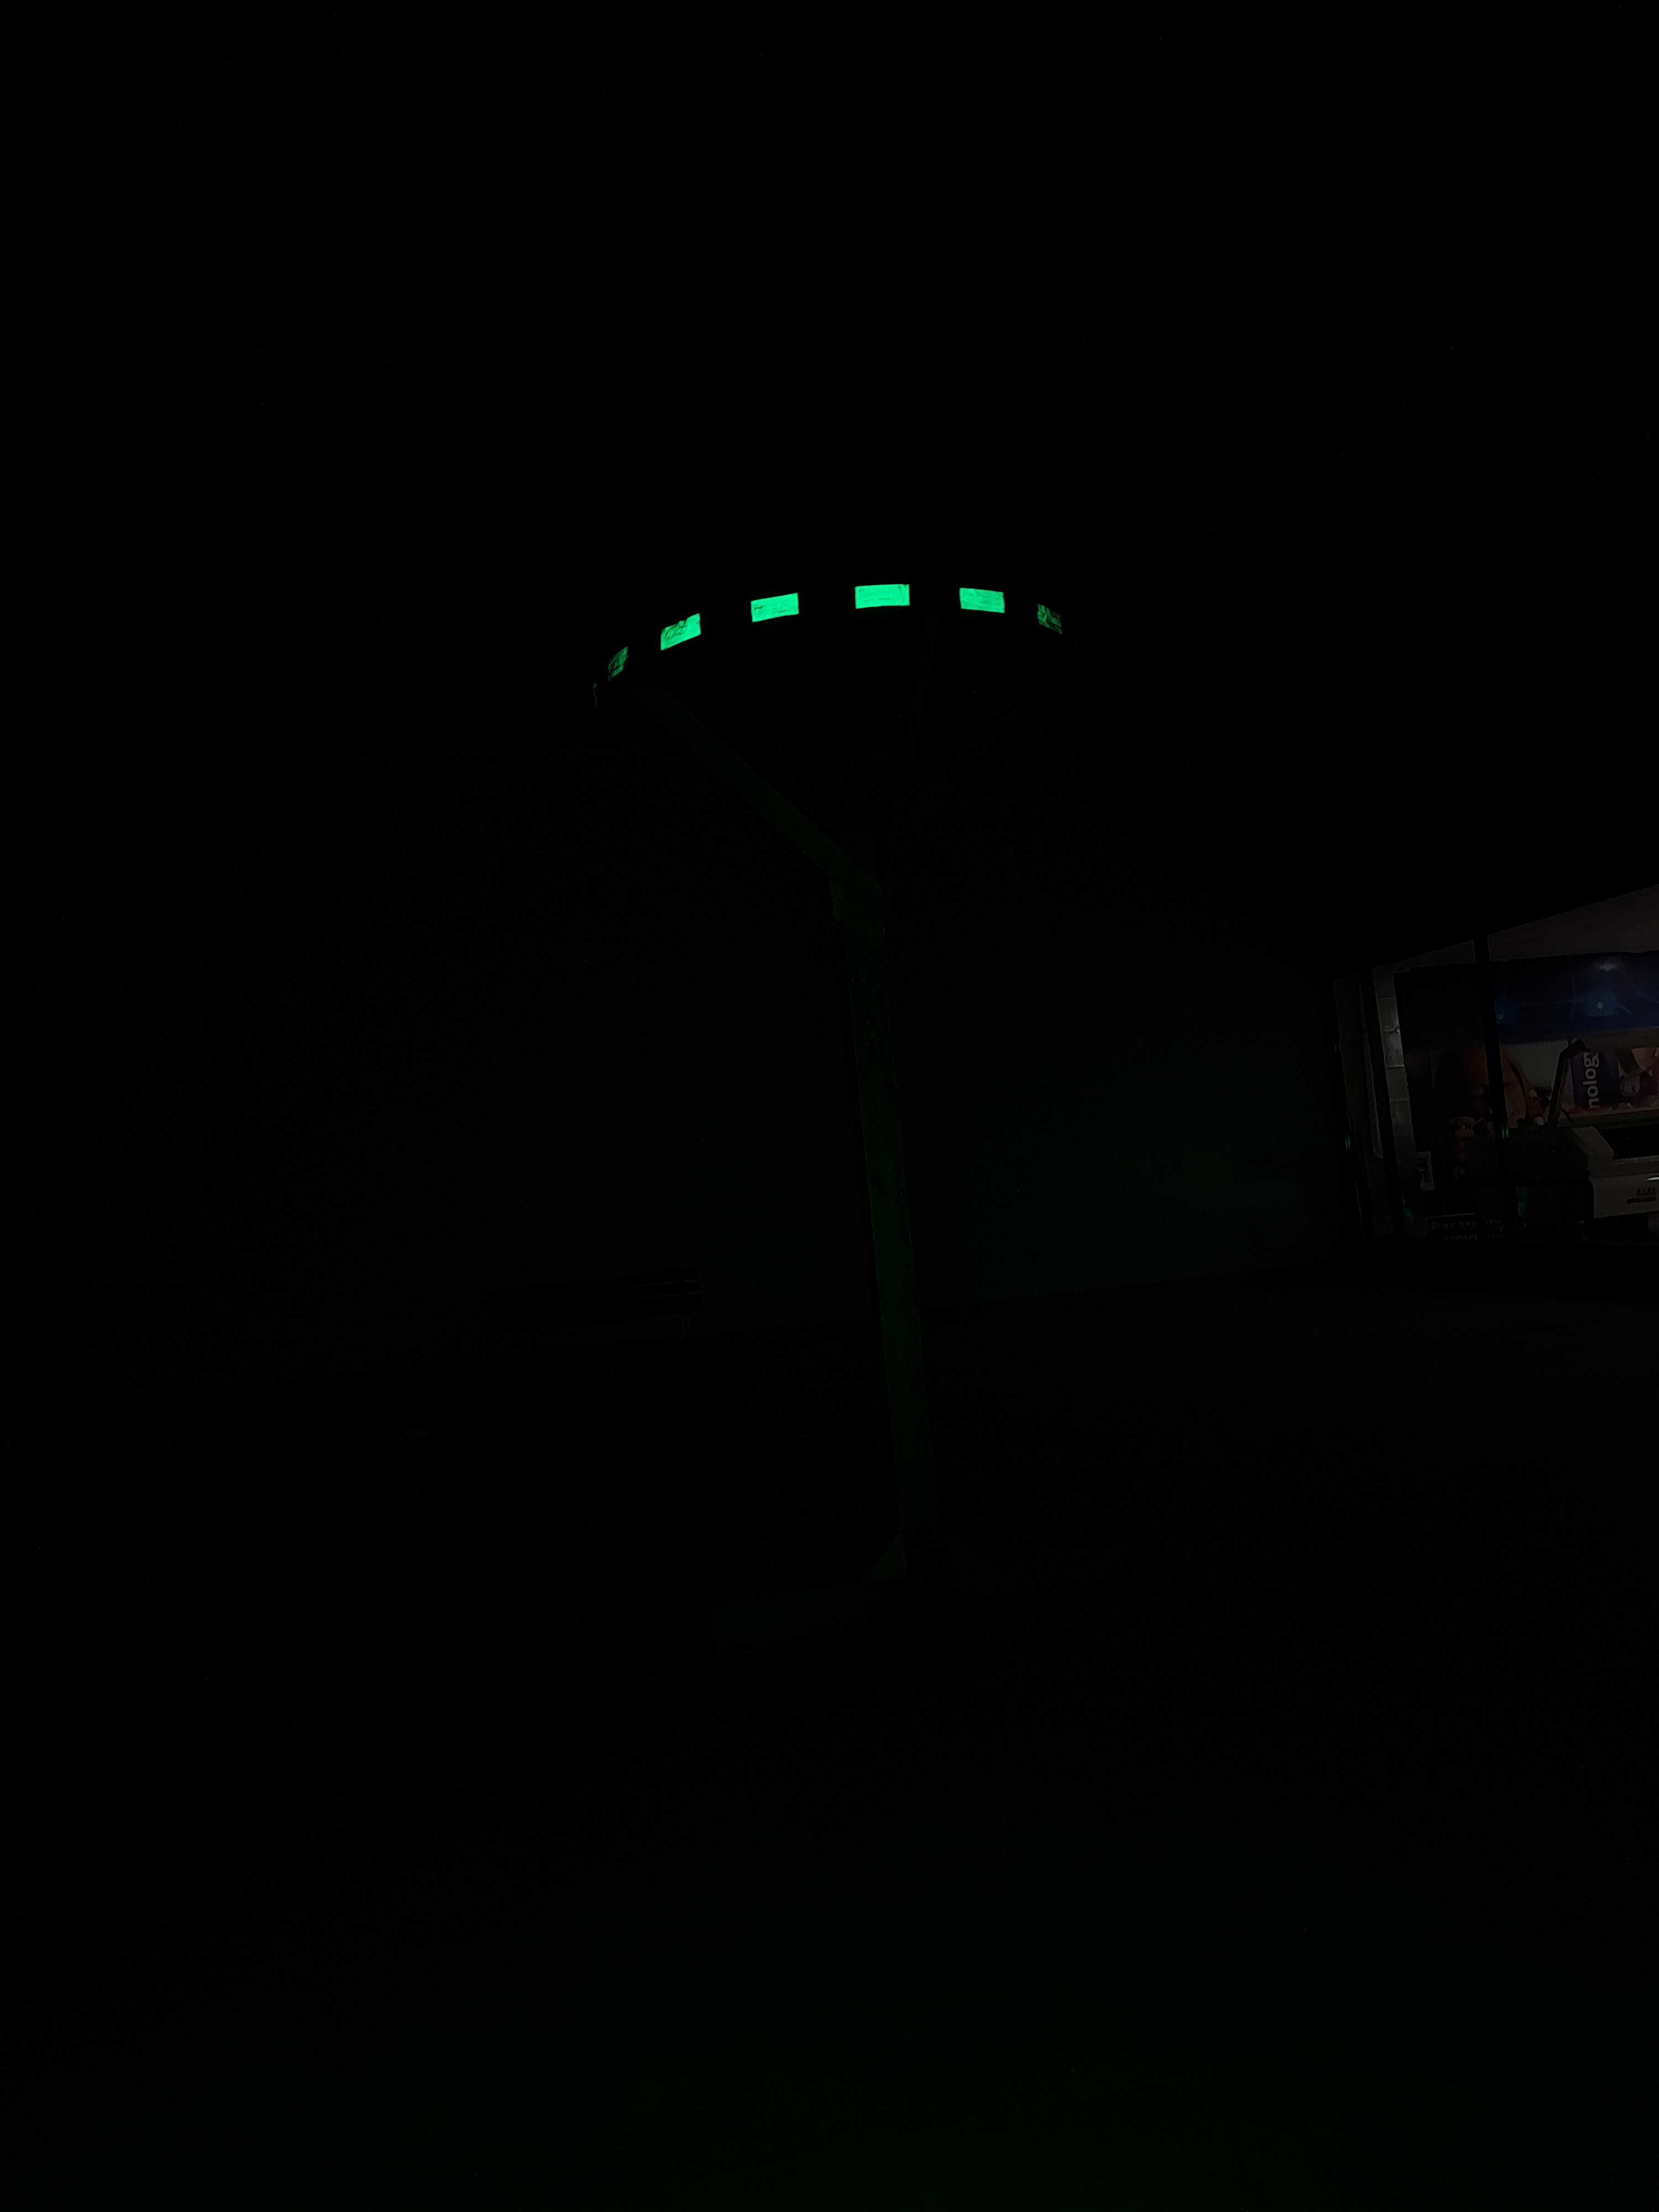hoop: (561, 570, 1075, 685)
